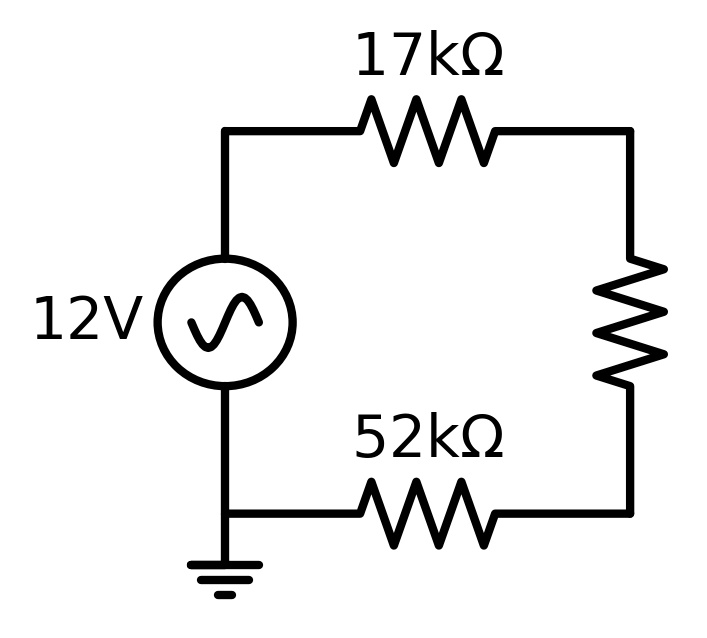ground: (172, 540, 276, 609)
resistor: (343, 470, 513, 567), (587, 242, 680, 413), (353, 88, 509, 179)
sourceac: (152, 251, 302, 394)
